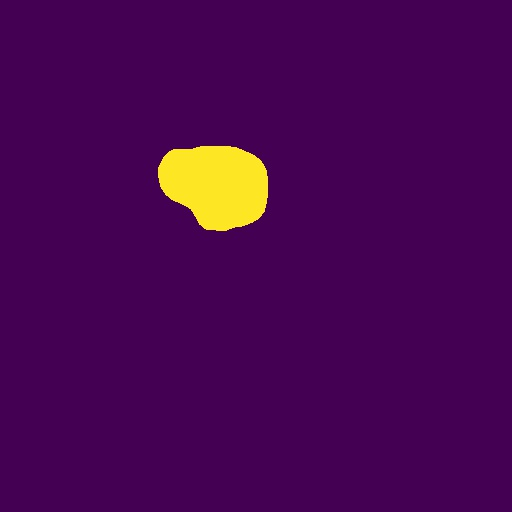Menigiomia_tumour: (158, 146, 268, 231)
